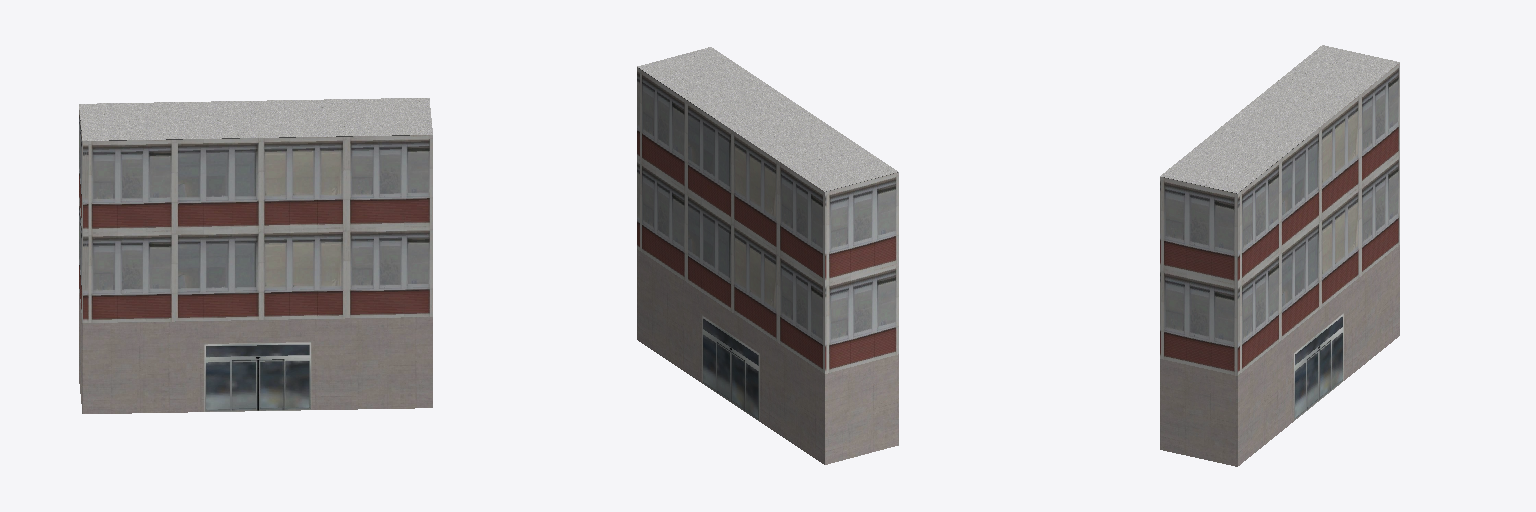
The picture shows the model from 3 angles: view 1: azimuth 30°, elevation 25°; view 2: azimuth 150°, elevation 25°; view 3: azimuth 270°, elevation 25°; orthographic projection.
Parts seen in each view (by area): view 1: BuildingMaster_[number redacted]_0, BuildingMaster_[number redacted]_1; view 2: BuildingMaster_[number redacted]_0, BuildingMaster_[number redacted]_1; view 3: BuildingMaster_[number redacted]_0, BuildingMaster_[number redacted]_1.
Part boxes in pixels (bbox=[...]): BuildingMaster_[number redacted]_0: bbox=[79, 110, 432, 413]; BuildingMaster_[number redacted]_1: bbox=[79, 98, 432, 140]; BuildingMaster_[number redacted]_0: bbox=[637, 67, 898, 464]; BuildingMaster_[number redacted]_1: bbox=[637, 47, 897, 191]; BuildingMaster_[number redacted]_0: bbox=[1160, 63, 1399, 466]; BuildingMaster_[number redacted]_1: bbox=[1160, 45, 1399, 193].
Bounding box in the file's own units: 12.24 × 10.5 × 8.37.
Materials: 2 (2 with a texture image).